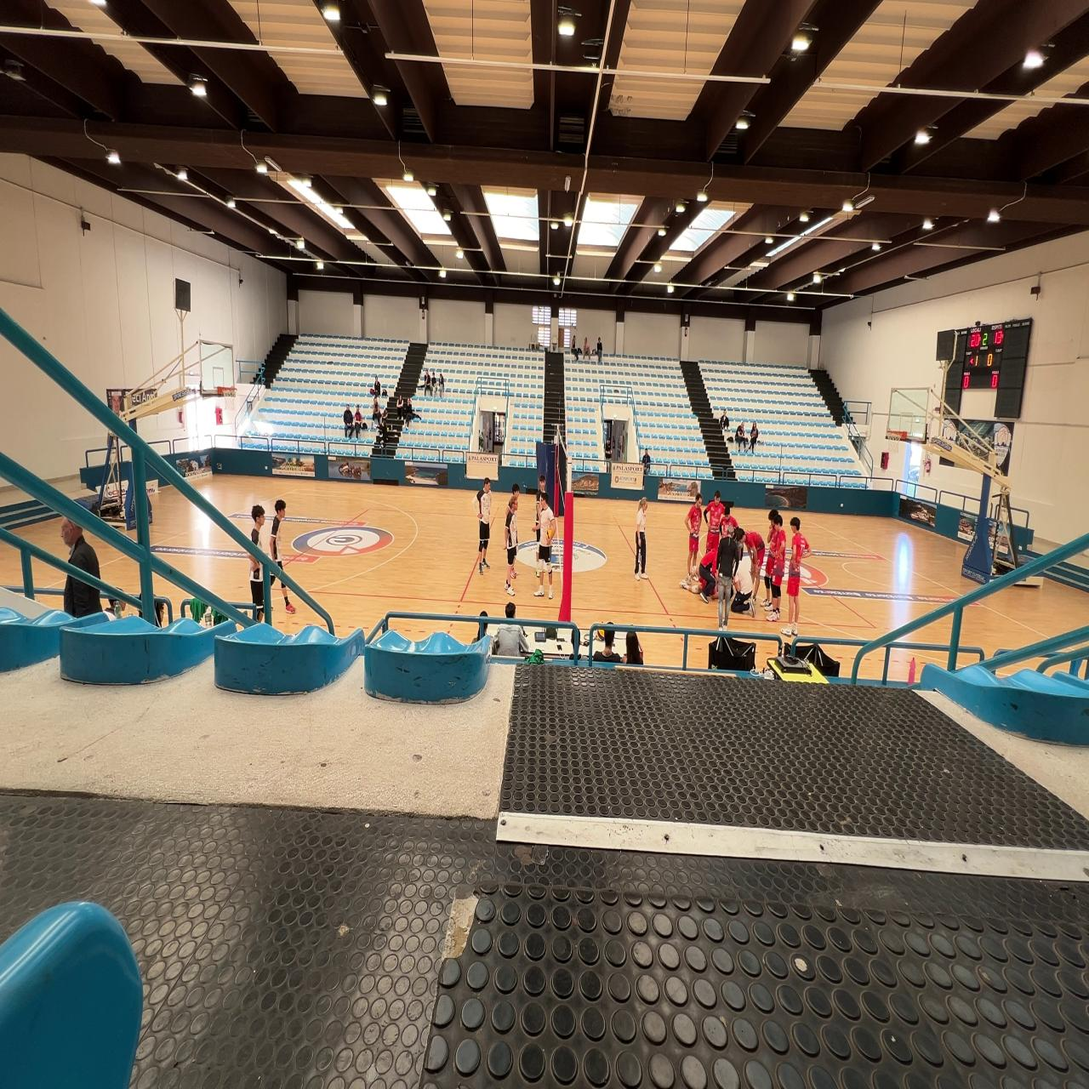ball: (546, 529, 553, 541)
